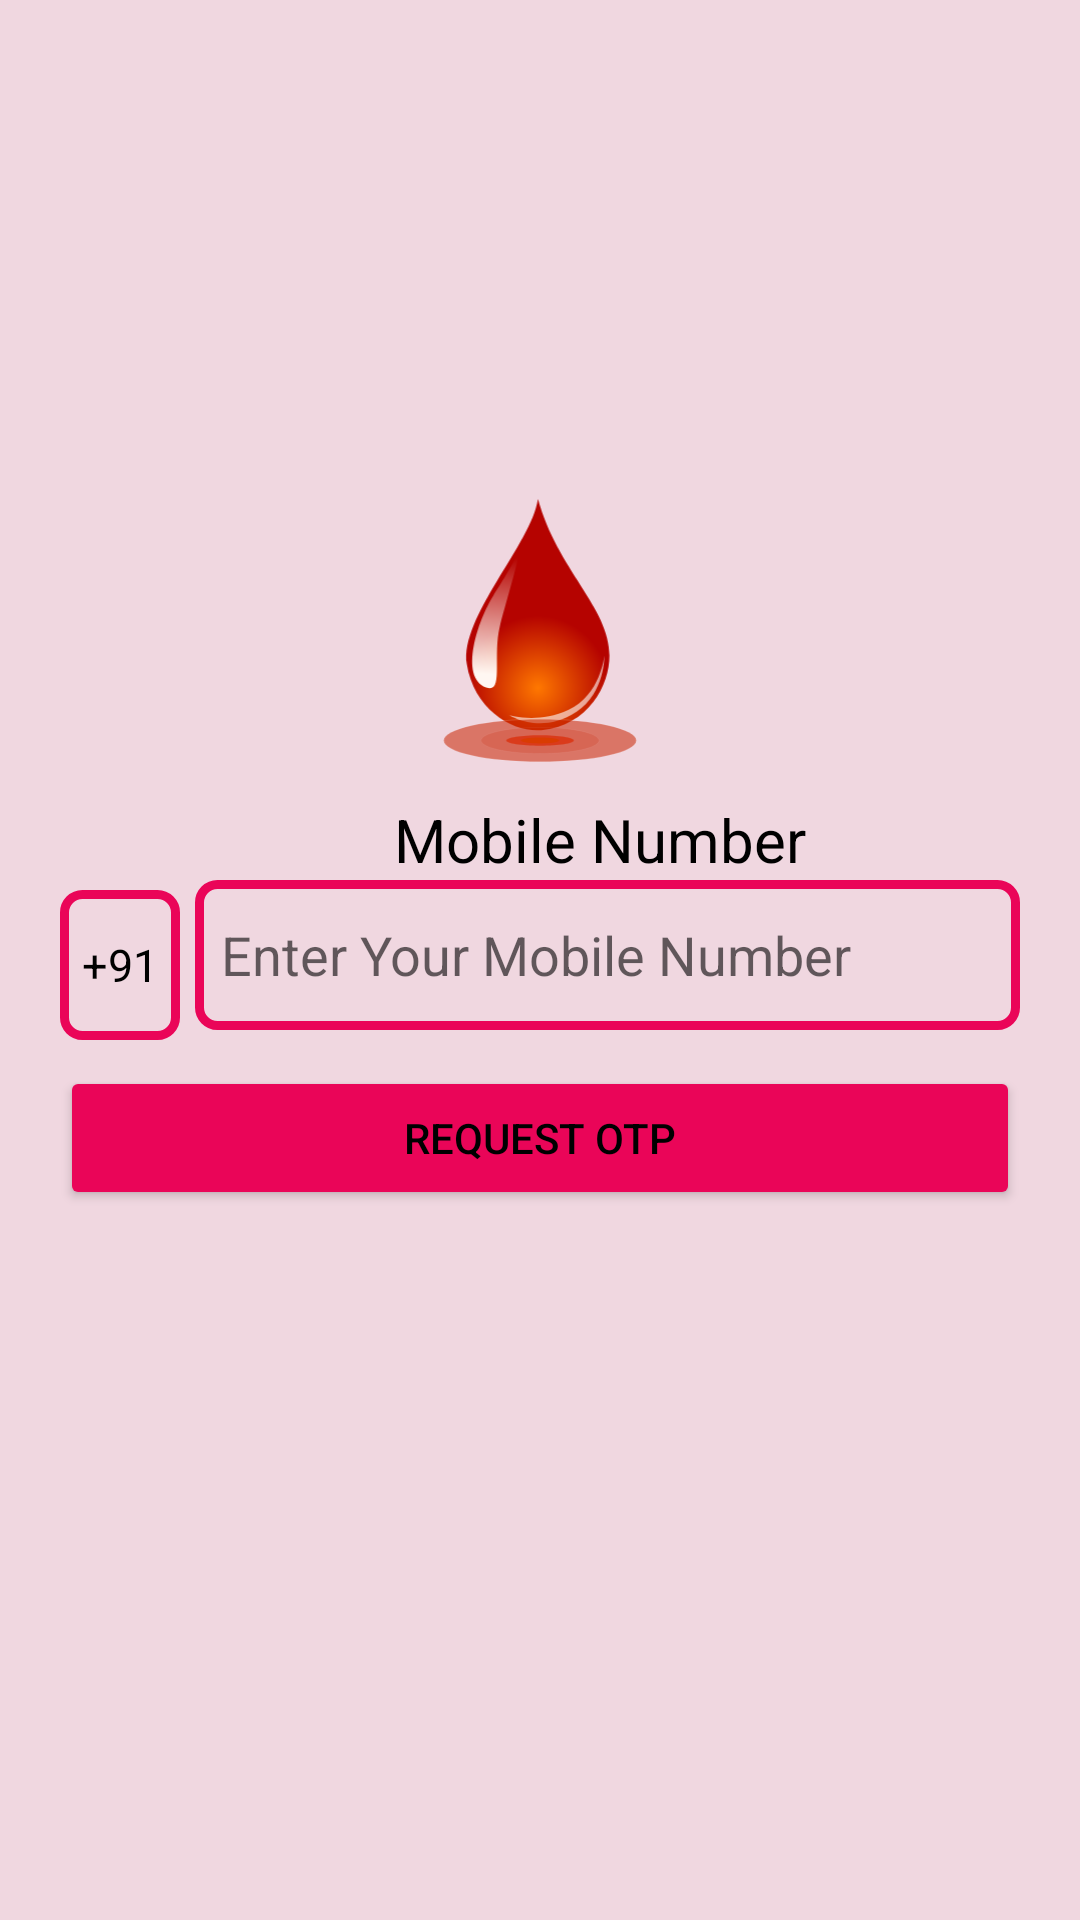

Screen size 1080 × 1920. Icon name, then its box in pixels as [x1=x1, y1=y1, x2=x2, y2=y2]:
blood: [x1=443, y1=499, x2=637, y2=762]
